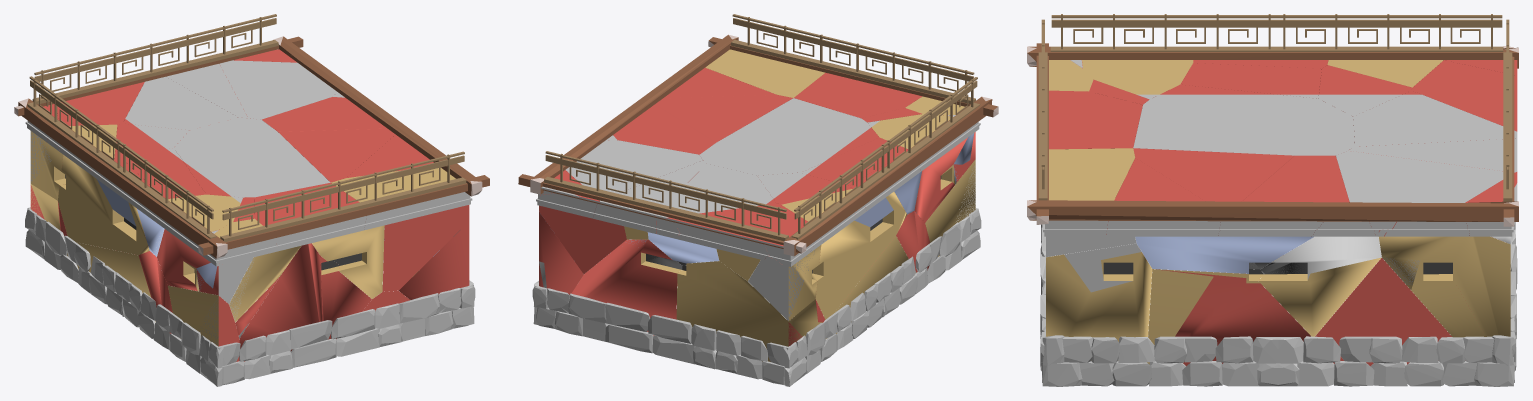
The model's file is attachment_01_fragments.fbx.
3 renders of one model, left to right at view 1: azimuth 30°, elevation 25°; view 2: azimuth 150°, elevation 25°; view 3: azimuth 270°, elevation 25°, orthographic. The views are drawn at different scales.
Parts seen in each view (by area): view 1: Object247.043_cell.025, Object247_cell.027, Object247.043_cell.002, Object247_cell.010, Object247_cell.008, Object247.043_cell.010, Object247.043_cell.018, Object247_cell.009, Object247.150, Object247.147, Object247_cell.015, Object247.043_cell.011 (+52 smaller); view 2: Object247.043_cell.025, Object247_cell.016, Object247_cell.019, Object247_cell.027, Object247.043_cell.002, Object247.043_cell.018, Object247.150, Object247.043_cell.007, Object247.147, Object247.043_cell.010, Object247.043_cell.008, Object247_cell.013 (+51 smaller); view 3: Object247.043_cell.025, Object247_cell.002, Object247.147, Object247_cell.011, Object247_cell.020, Object247_cell.004, Object247.043_cell.002, Object247_cell.024, Object247.043_cell.010, Object247.043_cell.018, Object247.043_cell.011, Object247.043_cell.009 (+55 smaller).
Boxes of the visible parts, x1,y1,x2,y2 form: Object247.043_cell.025: (174,117,330,197); Object247_cell.027: (58,155,149,255); Object247.043_cell.002: (220,60,337,119); Object247_cell.010: (239,243,322,361); Object247_cell.008: (382,205,469,291); Object247.043_cell.010: (123,76,237,130); Object247.043_cell.018: (278,128,395,182); Object247_cell.009: (157,229,253,303); Object247.150: (18,98,227,258); Object247.147: (273,36,482,196); Object247_cell.015: (312,225,384,298); Object247.043_cell.011: (331,168,472,230); Object247.043_cell.025: (700,98,879,175); Object247_cell.016: (676,261,825,361); Object247_cell.019: (571,239,682,335); Object247_cell.027: (812,191,907,319); Object247.043_cell.002: (566,140,702,193); Object247.043_cell.018: (655,95,792,142); Object247.150: (783,96,992,256); Object247.043_cell.007: (794,72,922,118); Object247.147: (530,34,738,194); Object247.043_cell.010: (655,164,775,240); Object247.043_cell.008: (666,203,807,260); Object247_cell.013: (539,205,626,273); Object247.043_cell.025: (1133,84,1354,155); Object247_cell.002: (1379,236,1510,337); Object247.147: (1027,200,1518,221); Object247_cell.011: (1046,243,1152,341); Object247_cell.020: (1147,269,1310,366); Object247_cell.004: (1258,236,1381,336); Object247.043_cell.002: (1336,150,1503,236); Object247_cell.024: (1315,258,1451,366); Object247.043_cell.010: (1353,90,1517,146); Object247.043_cell.018: (1133,148,1293,201); Object247.043_cell.011: (1043,148,1135,236); Object247.043_cell.009: (1218,155,1349,236).
Size of the model in its own units: 875 by 507 by 1043.
